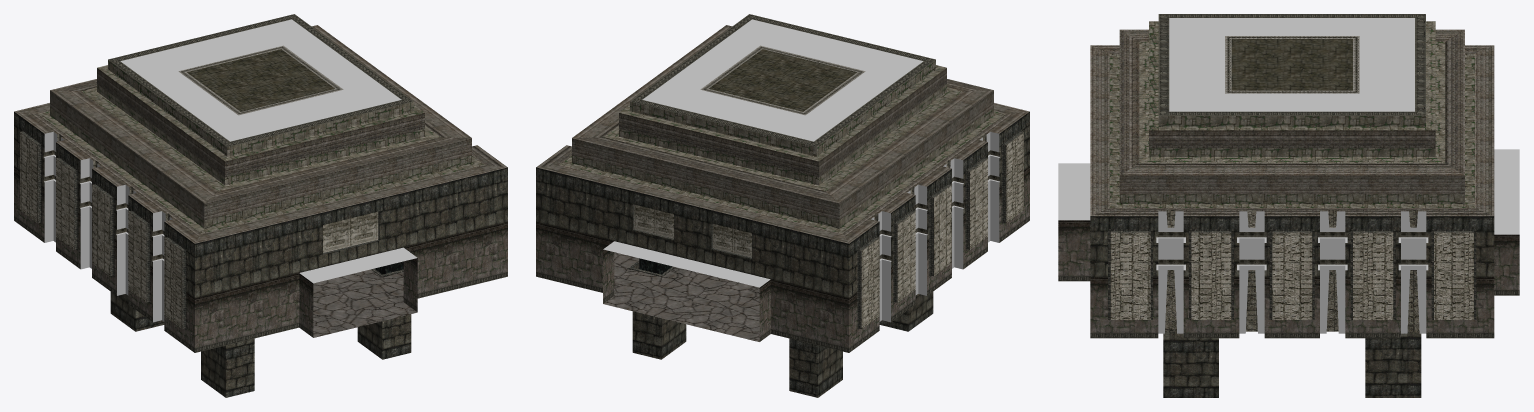
Rendered from thm_yavn_temple_exar_kun_r4_mesh_r4.fbx.
The picture shows the model from 3 angles, left to right: view 1: azimuth 30°, elevation 25°; view 2: azimuth 150°, elevation 25°; view 3: azimuth 270°, elevation 25°; orthographic projection. The views are drawn at different scales.
Visible parts, largest first — view 1: mesh_node; view 2: mesh_node; view 3: mesh_node.
Part boxes in pixels (box(x1,y1,x2,y2)): mesh_node: box(14, 14, 507, 397); mesh_node: box(536, 14, 1029, 397); mesh_node: box(1058, 14, 1519, 397).
Size of the model in its own units: 16.34 by 12.34 by 18.26.
